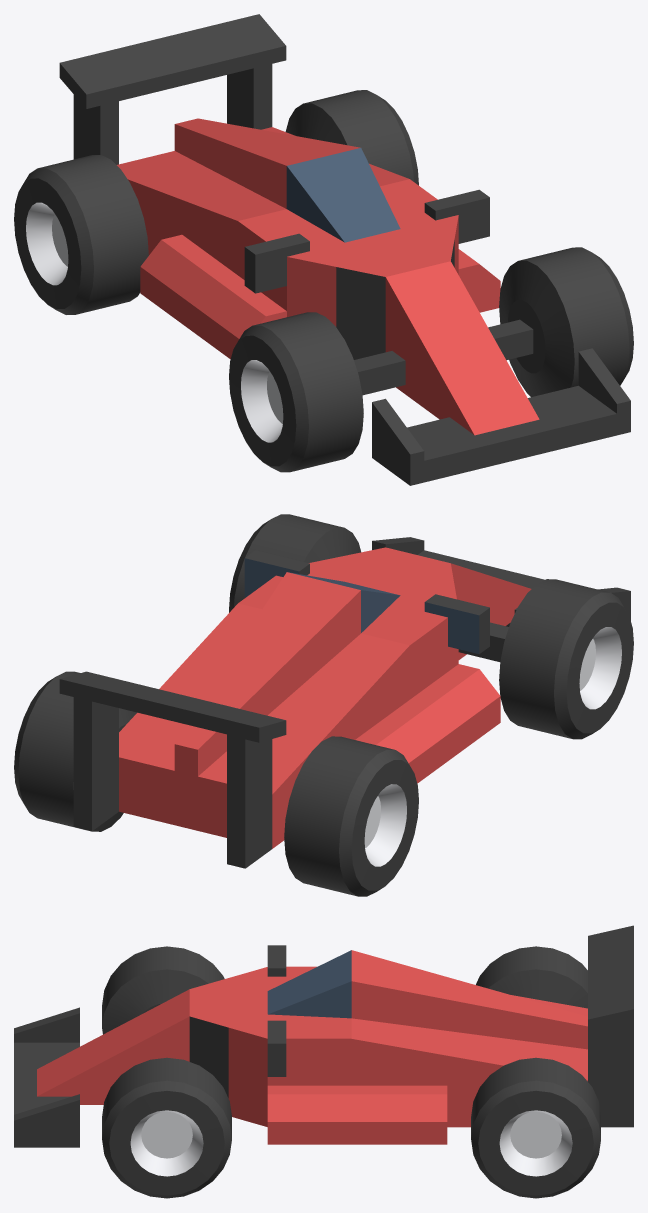
The model's file is formula-red.glb.
3 renders of one model, top to bottom at view 1: azimuth 30°, elevation 25°; view 2: azimuth 150°, elevation 25°; view 3: azimuth 270°, elevation 25°, orthographic. The views are drawn at different scales.
Visible parts, largest first — view 1: body, wheelFrontRight, wheelBackRight, wheelFrontLeft, wheelBackLeft; view 2: body, wheelBackRight, wheelFrontRight, wheelBackLeft, wheelFrontLeft; view 3: body, wheelBackLeft, wheelFrontLeft, wheelFrontRight, wheelBackRight.
Part boxes in pixels (x1,y1,x2,y2): body: (59,14,630,485); wheelFrontRight: (229,312,363,472); wheelBackRight: (14,155,148,314); wheelFrontLeft: (499,247,633,397); wheelBackLeft: (285,90,418,185); body: (59,537,630,868); wheelBackRight: (284,736,418,896); wheelFrontRight: (499,579,633,739); wheelBackLeft: (14,671,136,831); wheelFrontLeft: (229,514,360,612); body: (14,925,633,1147); wheelBackLeft: (471,1057,600,1198); wheelFrontLeft: (102,1057,231,1198); wheelFrontRight: (102,946,224,1034); wheelBackRight: (476,946,587,1008).
Bounding box in the file's own units: 0.7288 × 0.397 × 1.35.
